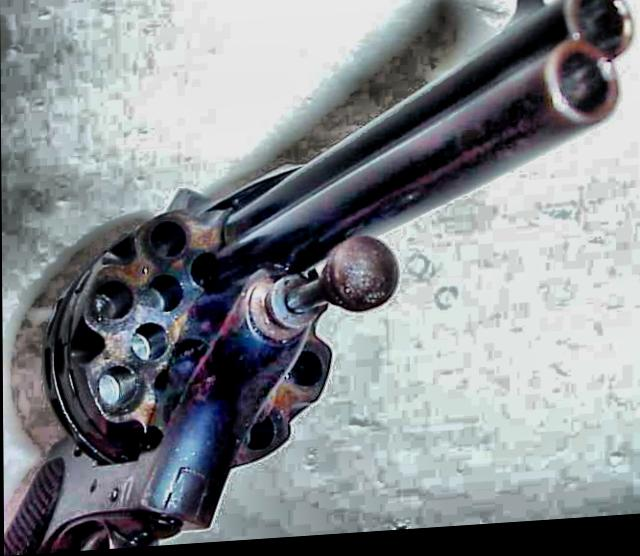pistol: (1, 0, 631, 553)
